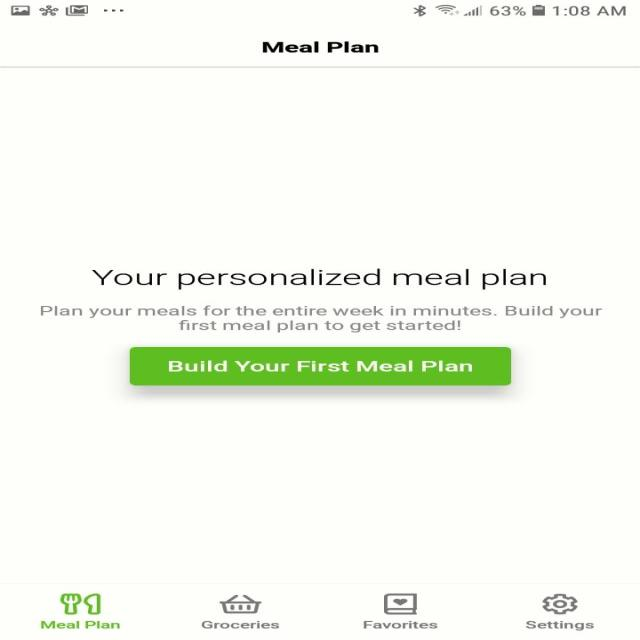Icon: (218, 594, 262, 613), (542, 593, 578, 614), (383, 593, 417, 614)
Image: (60, 592, 100, 614)
Text: (40, 305, 602, 333), (90, 268, 546, 289), (261, 41, 379, 53), (524, 620, 594, 631), (40, 620, 120, 629), (201, 620, 279, 629), (362, 620, 438, 629)
TextButton: (129, 346, 511, 386)
